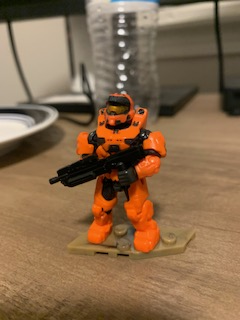rifle: (48, 146, 145, 185)
spartan: (76, 94, 168, 254)
